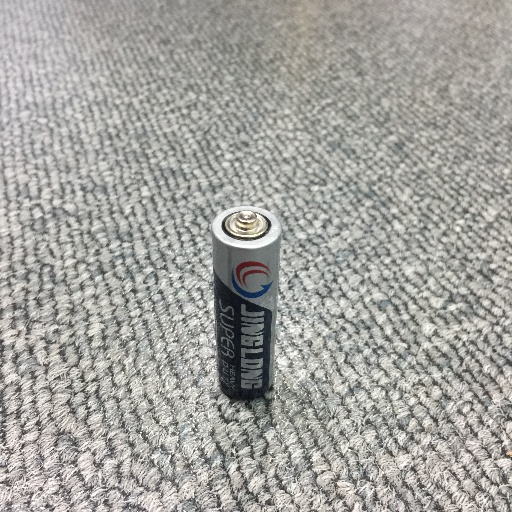Battery_0: (201, 191, 298, 426)
